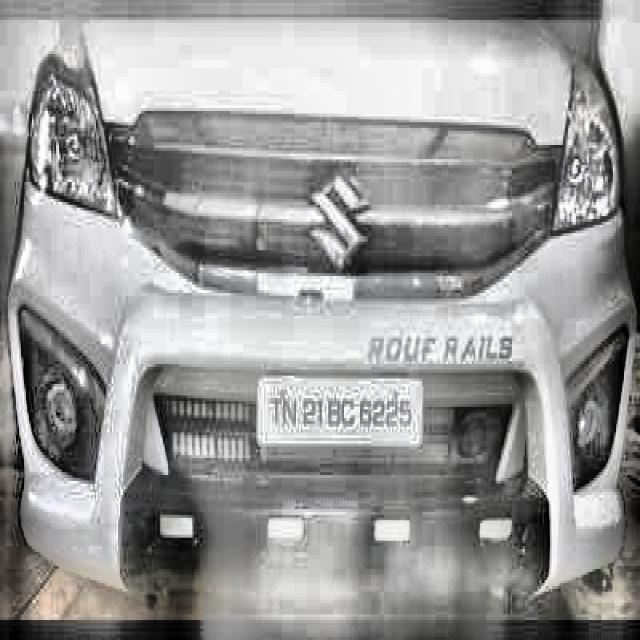license_plate: (265, 382, 417, 448)
